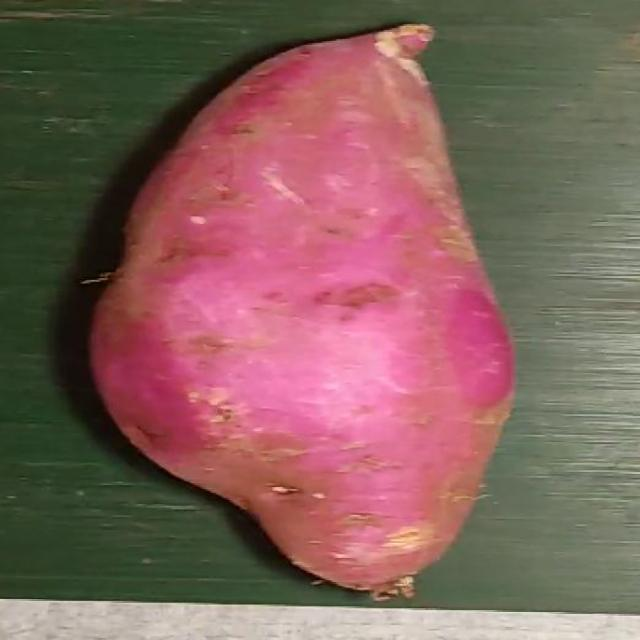Sweet Potato: (87, 23, 517, 600)
